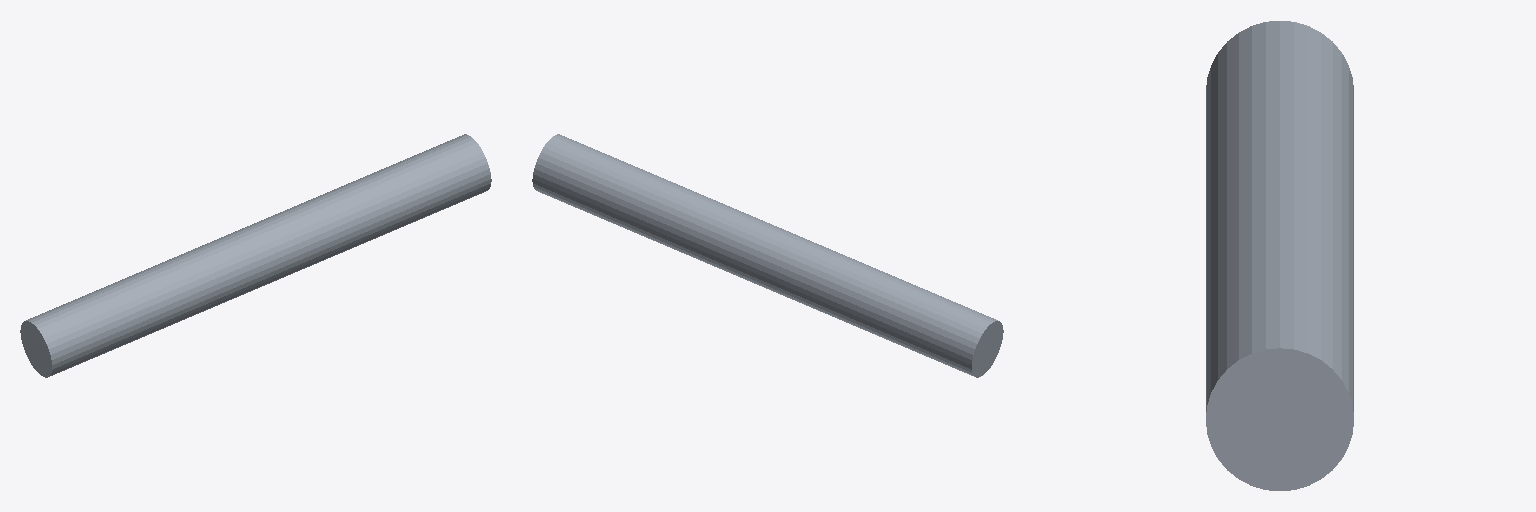
URDF robot description (cube):
<?xml version="1.0"?>
<robot name="cube">
  <!-- Frying pan model, Copyright (c) 2016 [author]       -->
  <!-- LICENSE: CC-SA                                         -->
  <link name="cube">
    <visual>
      <origin rpy="0 0 0" xyz="0 0 0"/>
      <geometry>
        <mesh filename="pan_tefal.obj"/>
      </geometry>
    </visual>
    <visual>  <!-- handle -->
      <geometry>
        <cylinder radius="0.011" length="0.185"/>
      </geometry>
      <origin rpy="0 1.4 0" xyz="0.22 0 0.07"/>
      <material name="aluminum">
        <color rgba="0.67 0.7 .74 1"/>
      </material>
    </visual>

    <collision>  <!-- handle -->
      <geometry>
        <cylinder radius="0.011" length="0.185"/>
      </geometry>
      <origin rpy="0 1.4 0" xyz="0.22 0 0.07"/>
    </collision>
    <collision>  <!-- bottom -->
      <geometry>
        <cylinder radius="0.12" length="0.01"/>
      </geometry>
      <origin rpy="0 0 0" xyz="0 0 0.005"/>
    </collision>

    <collision>
      <geometry>
        <mesh filename="pan_tefal-collision01.obj"/>
      </geometry>
      <origin rpy="0 0 0" xyz="0 0 0"/>
    </collision>

    <collision>
      <geometry>
        <mesh filename="pan_tefal-collision02.obj"/>
      </geometry>
      <origin rpy="0 0 0" xyz="0 0 0"/>
    </collision>

    <collision>
      <geometry>
        <mesh filename="pan_tefal-collision03.obj"/>
      </geometry>
      <origin rpy="0 0 0" xyz="0 0 0"/>
    </collision>

    <collision>
      <geometry>
        <mesh filename="pan_tefal-collision04.obj"/>
      </geometry>
      <origin rpy="0 0 0" xyz="0 0 0"/>
    </collision>

    <collision>
      <geometry>
        <mesh filename="pan_tefal-collision05.obj"/>
      </geometry>
      <origin rpy="0 0 0" xyz="0 0 0"/>
    </collision>

    <collision>
      <geometry>
        <mesh filename="pan_tefal-collision06.obj"/>
      </geometry>
      <origin rpy="0 0 0" xyz="0 0 0"/>
    </collision>

    <inertial>
      <mass value="0.001"/>  <!-- mr^2 = 0.5*0.12^2 = 0.0072 for Z axis, lighter along other axis -->
      <inertia ixx="0.005" iyy="0.005" izz="0.0072"/>
    </inertial>
  </link>

</robot>

--- Facts derived from the render (not from the file) ---
3 views of the same robot in one strip: view 1: azimuth 30°, elevation 25°; view 2: azimuth 150°, elevation 25°; view 3: azimuth 270°, elevation 25° (orthographic).
Robot: cube — 1 links, 0 joints (none); root link cube; default pose: every joint at zero.
Links seen in each view (by area): view 1: cube; view 2: cube; view 3: cube.
Link boxes in pixels (box(x1,y1,x2,y2)): cube: box(20, 134, 491, 377); cube: box(532, 134, 1003, 377); cube: box(1206, 21, 1353, 490).
Size in the robot's own frame: 0.186 by 0.022 by 0.0531 metres.
0 mesh visuals loaded from 1 distinct referenced files (none loaded); not drawn: 1 (reference not matched to a file when rendering).